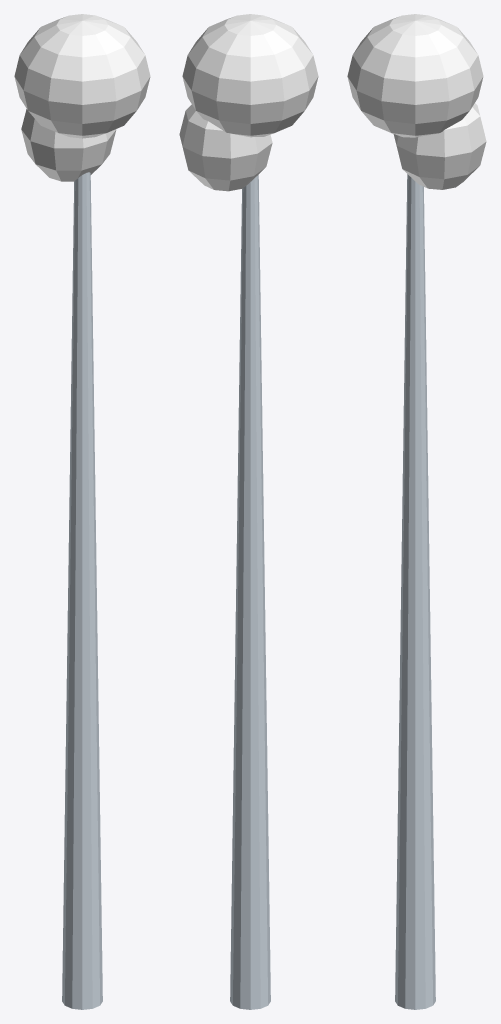
Rendered from fuente.glb.
3 renders of one model, left to right at view 1: azimuth 90°, elevation 25°; view 2: azimuth 150°, elevation 25°; view 3: azimuth 330°, elevation 25°, orthographic.
Visible parts, largest first — view 1: fuente; view 2: fuente; view 3: fuente.
Boxes of the visible parts, x1,y1,x2,y2 form: fuente: (14,14,150,1009); fuente: (179,14,318,1009); fuente: (347,14,486,1009).
Bounding box in the file's own units: 20 × 159 × 20.
